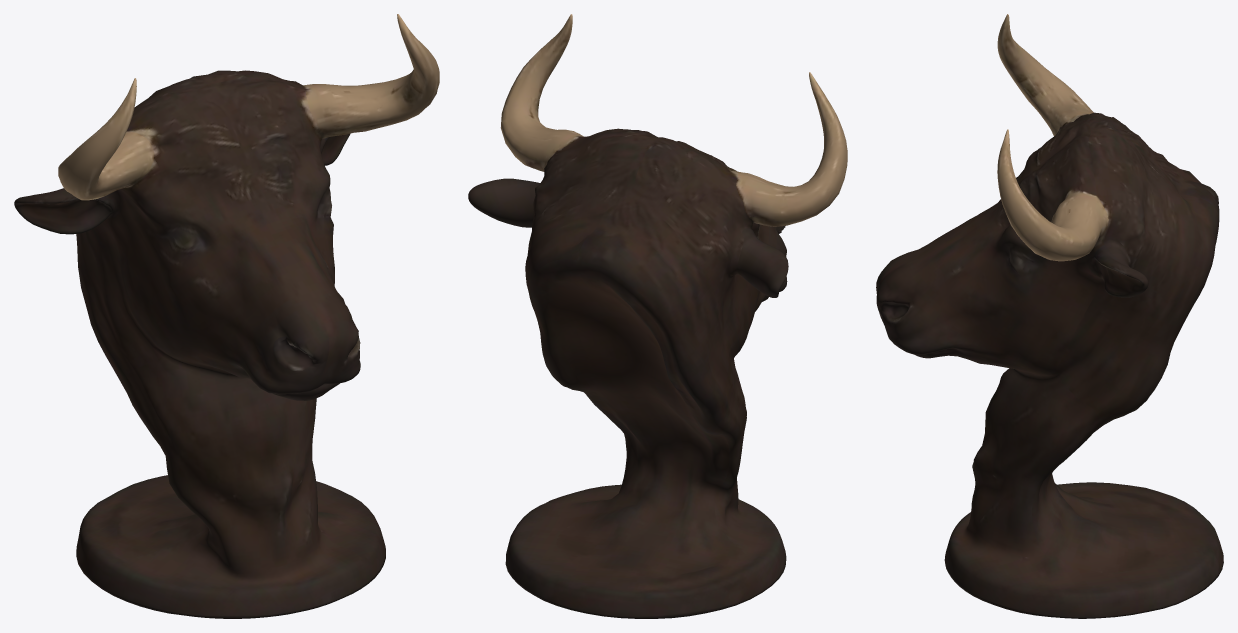
The model's file is bull_head.glb.
3 views of the same model, side by side, from view 1: azimuth 30°, elevation 25°; view 2: azimuth 150°, elevation 25°; view 3: azimuth 270°, elevation 25° (orthographic). The views are drawn at different scales.
Visible parts, largest first — view 1: bull_head; view 2: bull_head; view 3: bull_head.
Boxes of the visible parts, box(x1,y1,x2,y2) form: bull_head: box(14, 14, 439, 618); bull_head: box(468, 14, 847, 618); bull_head: box(876, 14, 1223, 618).
Size of the model in its own units: 0.3063 by 0.433 by 0.2808.
Materials: 1 (1 with a texture image).
